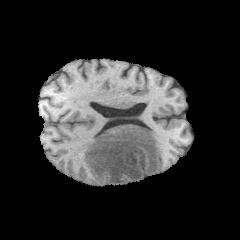glioma: (85, 127, 159, 184)
